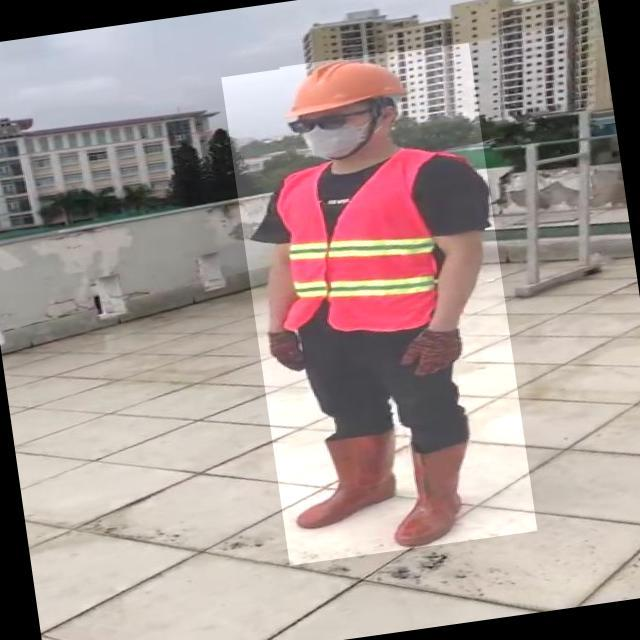Gloves: (396, 327, 467, 380), (265, 328, 313, 374)
Helmet: (280, 51, 410, 122)
Human: (222, 43, 538, 566)
Safety Boot: (287, 429, 407, 532), (380, 443, 479, 550)
Safety Vest: (265, 148, 454, 345)
